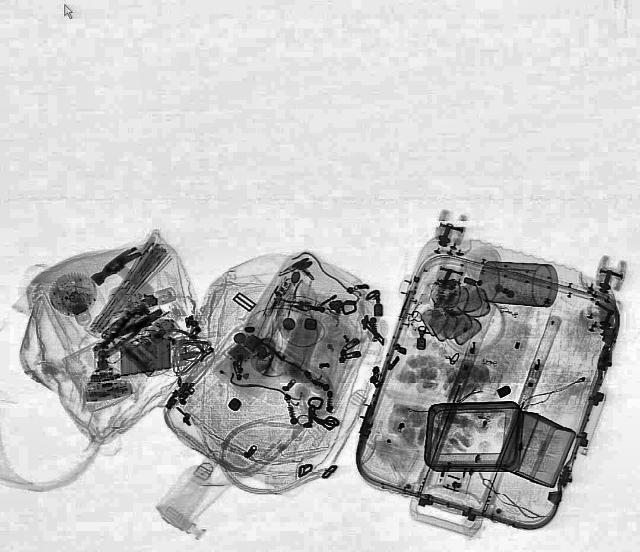Pliers: (88, 297, 166, 357)
